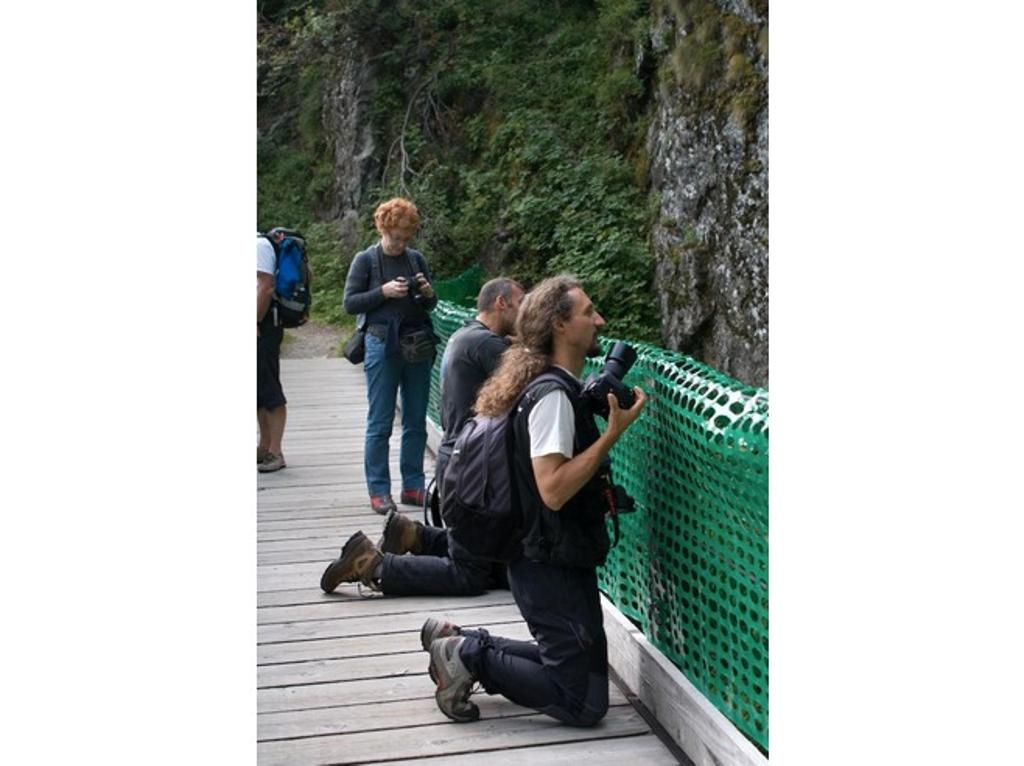face: (565, 294, 604, 353), (504, 291, 526, 332), (384, 229, 409, 253)
